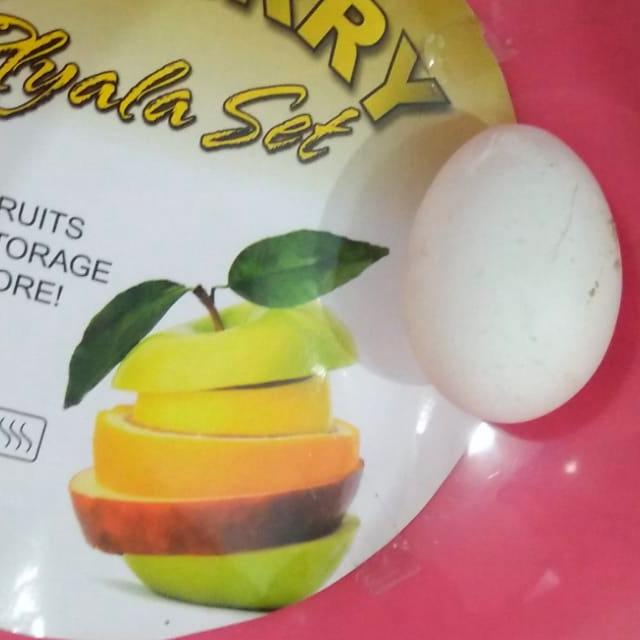egg: (383, 117, 640, 441)
